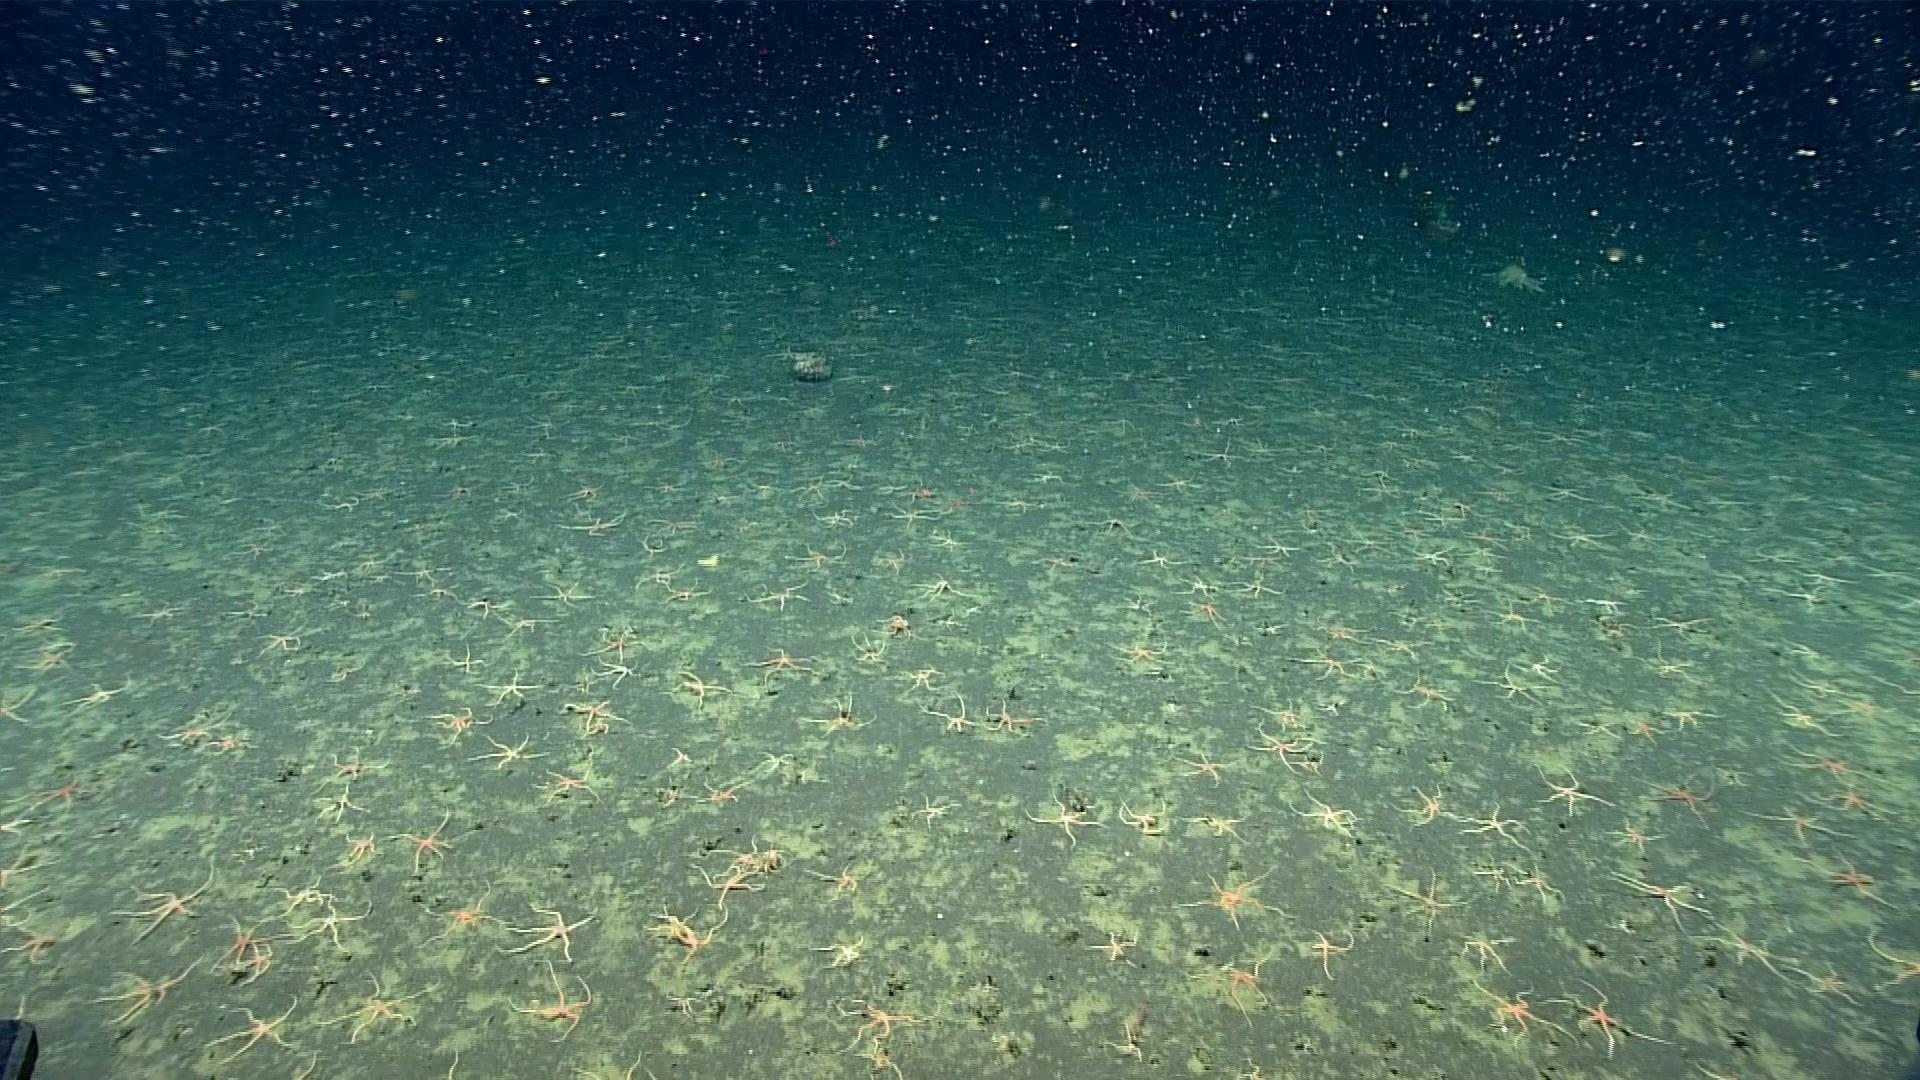brittle_sea_star: (1544, 977, 1675, 1055), (313, 969, 440, 1046), (109, 858, 216, 947), (84, 956, 206, 1026), (1172, 865, 1292, 931), (496, 891, 599, 963), (506, 960, 593, 1043), (1464, 976, 1569, 1043), (1606, 869, 1716, 931), (1796, 843, 1892, 907), (1689, 922, 1792, 980), (204, 994, 299, 1056), (1385, 866, 1470, 934), (645, 897, 725, 963), (419, 880, 496, 947), (1211, 957, 1283, 1027), (829, 997, 920, 1052), (1745, 802, 1854, 847), (1022, 787, 1102, 848), (1532, 762, 1618, 816), (284, 901, 373, 952), (210, 913, 273, 984), (1639, 769, 1716, 827), (386, 811, 455, 876), (1784, 744, 1882, 789), (695, 853, 761, 914), (1784, 960, 1863, 1007), (526, 574, 608, 618), (227, 1042, 326, 1079), (1247, 717, 1311, 774), (802, 691, 874, 740), (1461, 802, 1534, 849), (1390, 786, 1464, 831), (472, 729, 550, 771), (658, 666, 731, 711), (422, 704, 491, 750), (1291, 794, 1361, 839), (1824, 779, 1894, 824), (1866, 924, 1919, 984), (13, 773, 84, 816), (55, 678, 132, 716), (1477, 666, 1548, 707), (533, 762, 601, 803), (744, 646, 816, 684), (274, 869, 331, 918), (1287, 647, 1367, 682), (477, 666, 545, 707), (562, 696, 626, 738), (800, 856, 861, 901), (0, 919, 63, 961), (1449, 934, 1514, 975), (1311, 926, 1356, 981), (855, 1044, 926, 1079), (922, 694, 978, 736), (1394, 674, 1455, 711), (1515, 869, 1569, 910), (132, 595, 194, 630), (808, 931, 864, 971), (1183, 808, 1249, 841), (744, 744, 806, 778), (1176, 748, 1232, 786), (314, 785, 371, 822), (1112, 798, 1166, 836), (729, 839, 789, 873), (1084, 930, 1138, 967), (1469, 856, 1518, 897), (982, 700, 1040, 735), (1604, 822, 1665, 853), (745, 580, 812, 609), (556, 510, 625, 538), (1251, 692, 1308, 725), (1766, 582, 1826, 612), (589, 658, 647, 690), (0, 851, 51, 886), (1515, 646, 1563, 684), (326, 748, 380, 781), (1101, 1022, 1145, 1063), (1126, 546, 1188, 574), (158, 715, 210, 748), (1639, 649, 1692, 680), (1109, 641, 1168, 669), (227, 534, 281, 563), (895, 661, 943, 694), (783, 543, 845, 568), (909, 793, 953, 827), (1257, 527, 1307, 558), (587, 628, 638, 657), (845, 630, 887, 665), (1487, 604, 1539, 632), (342, 829, 380, 866), (1179, 600, 1229, 628), (1176, 574, 1222, 601), (0, 985, 34, 1022), (1655, 708, 1714, 729), (497, 613, 550, 637), (206, 731, 257, 754), (1652, 613, 1702, 637), (462, 593, 509, 618), (915, 575, 959, 600), (1623, 716, 1662, 744), (447, 644, 481, 674), (260, 626, 301, 651), (698, 782, 742, 804), (654, 779, 688, 808), (1410, 546, 1453, 568), (0, 810, 41, 833), (633, 568, 678, 589), (1234, 574, 1274, 597), (926, 531, 967, 554), (663, 744, 696, 770), (881, 613, 915, 638)
